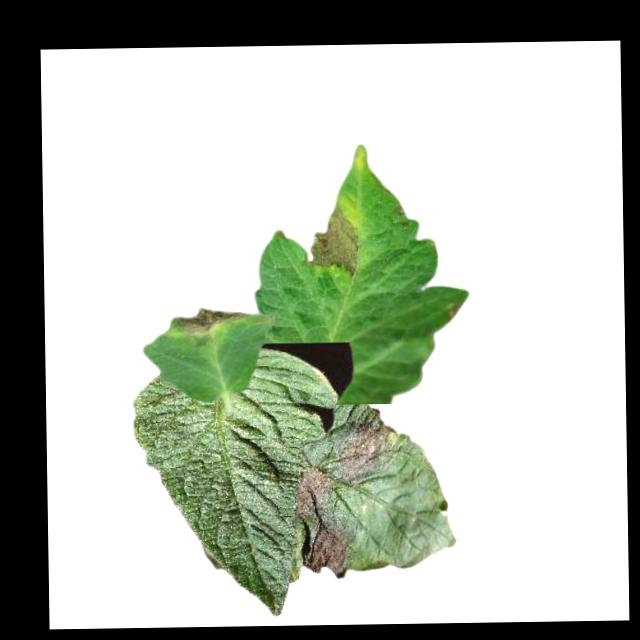Late_blight: (334, 406, 402, 487), (309, 205, 361, 281), (303, 519, 353, 577), (176, 305, 249, 337), (296, 465, 336, 518)
healthy: (132, 346, 342, 622)
